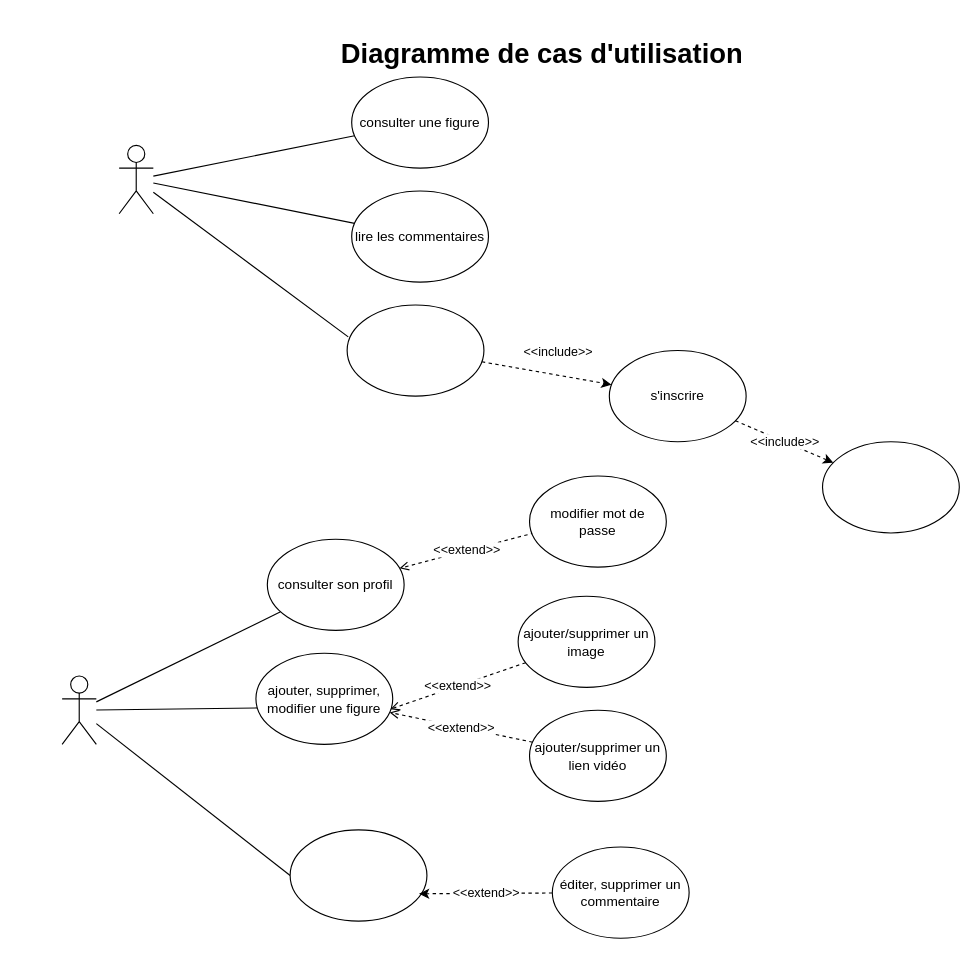
The diagram is 979 pixels wide and 958 high, and some of its shapes have lost their labels. The shapes that lost their labels are listed below. From the top down, each one's centre as x and y in pixels, then its label:
the point at 135,179: Visiteur
the point at 415,350: se connecter
the point at 890,487: vérifier son compte via email
the point at 78,709: Utilisateur connecté
the point at 358,875: laisser un commentaire
